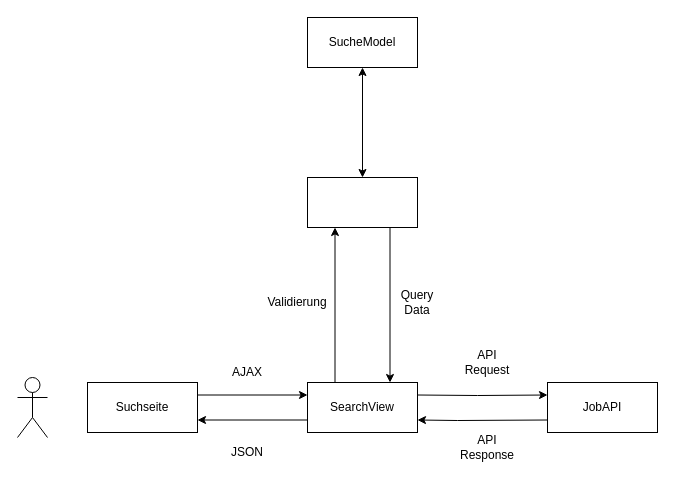
Image size: 675x485. Some labels were removed from this diagram. The shapes that lost their labels are listed below. From the top down, each one's centre as x and y in pixels, then its label:
(x=362, y=202): SearchForm
(x=32, y=407): Actor
